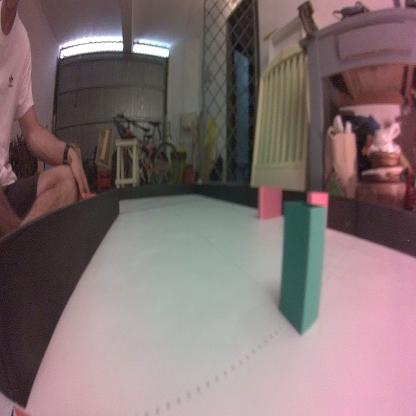green: (279, 199, 327, 338)
magenta: (258, 183, 282, 221)
